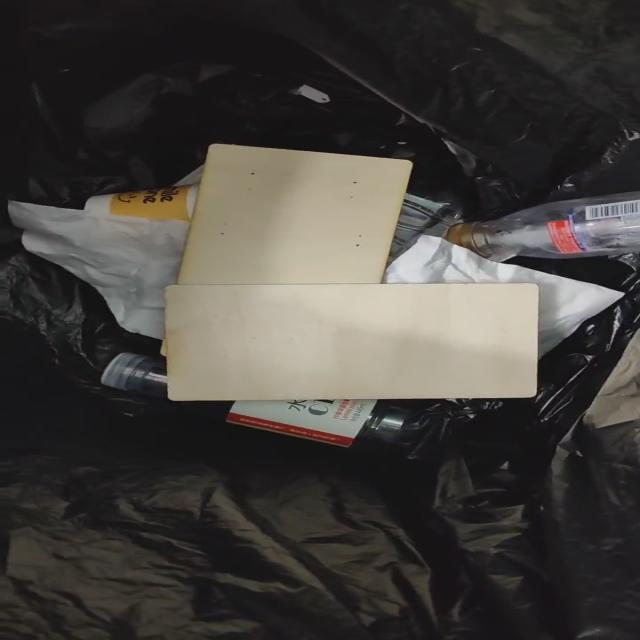bottle: (172, 400, 424, 454), (444, 192, 639, 258), (100, 352, 170, 406)
dixie_cup: (84, 184, 198, 230)
paper: (384, 234, 622, 357), (9, 201, 188, 340)
